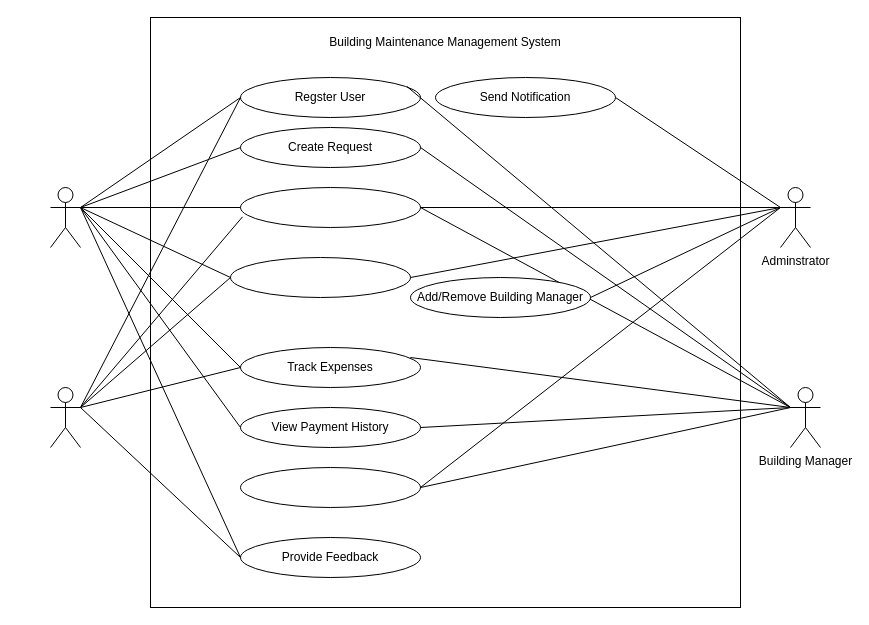
Image size: 869x625. Some labels were removed from this diagram. The shapes that lost their labels are listed below. From the top down, each one's box as (x1, y1, x2, y2) in pixels, then its label:
(50, 186, 80, 248): Apartment Owner
(240, 186, 420, 228): View Maintenance Status
(230, 256, 410, 298): Manage Payment Methods
(50, 386, 80, 448): Maintenance Staff
(240, 466, 420, 508): Manage Admin Dashboard
